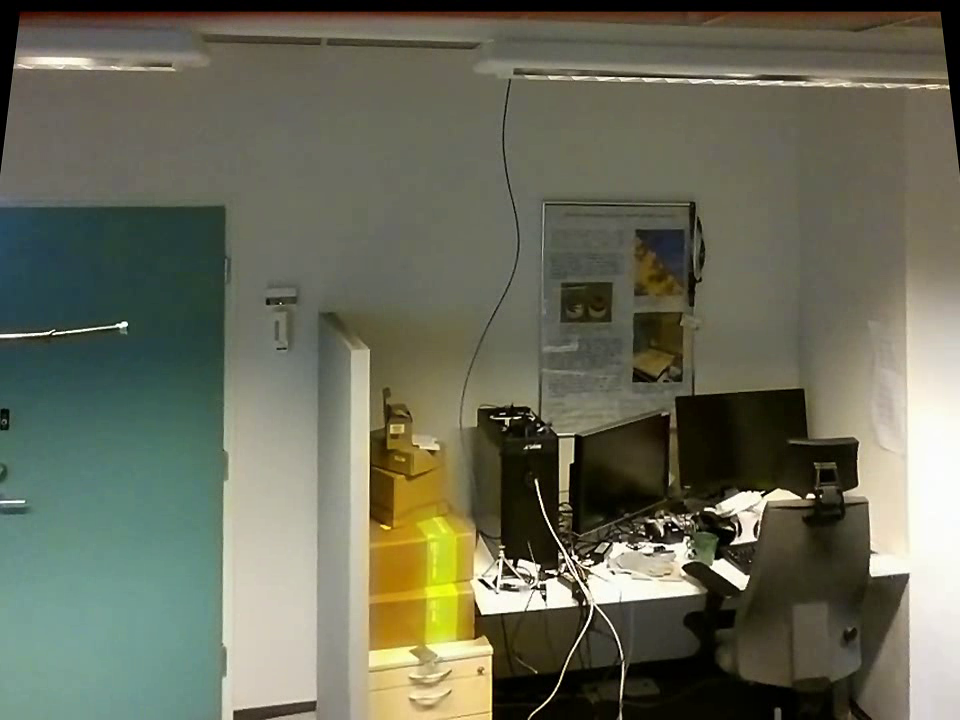branch: (2, 310, 113, 351)
